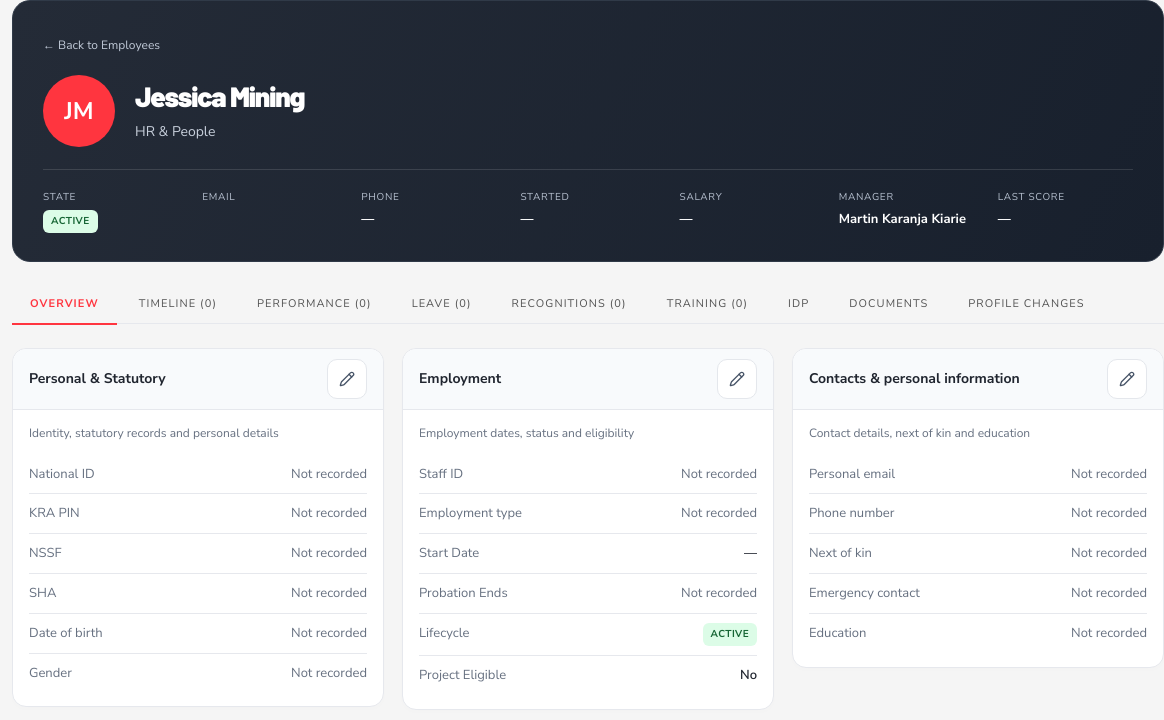
Test: renders manager manager-id safely and retains the overview
Click the button with test id "profile-tab-timeline".
click(178, 305)  # box [121,286,235,324]
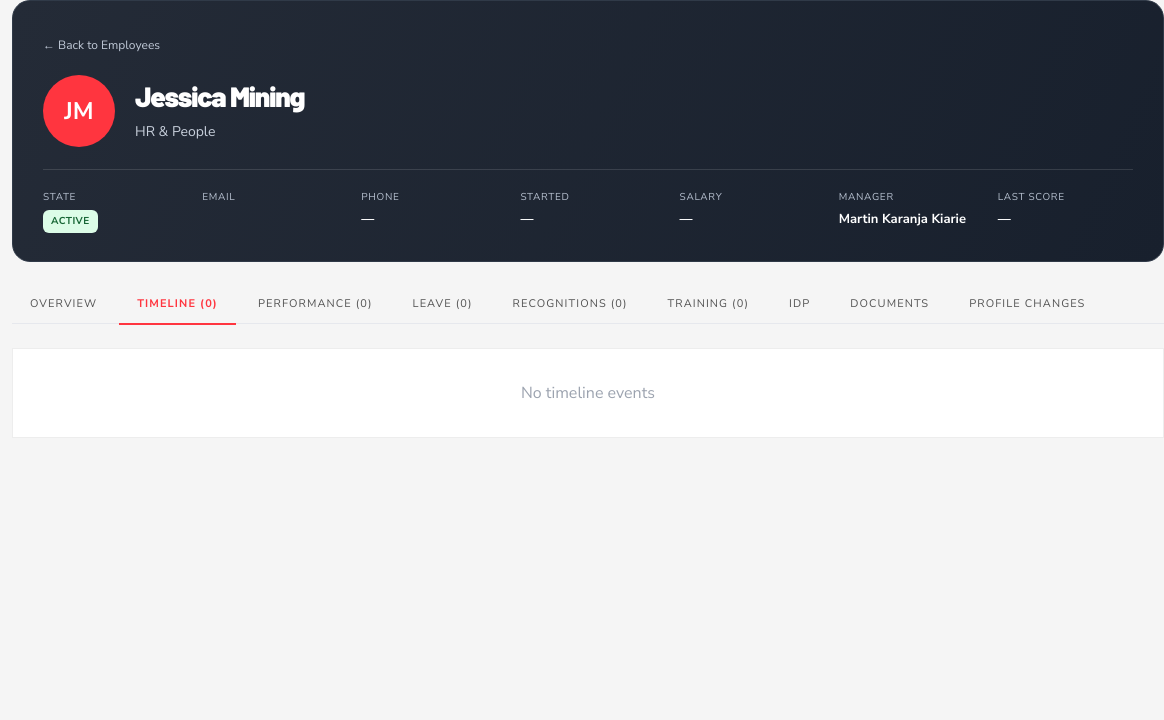
Expected: the text "No timeline events" is shown, [12,348,1163,438]
